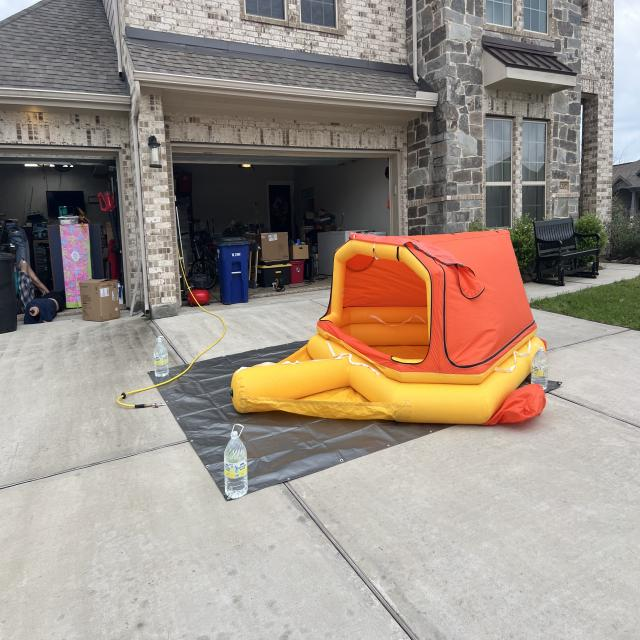Multi-person_life_raft: (231, 228, 547, 428)
